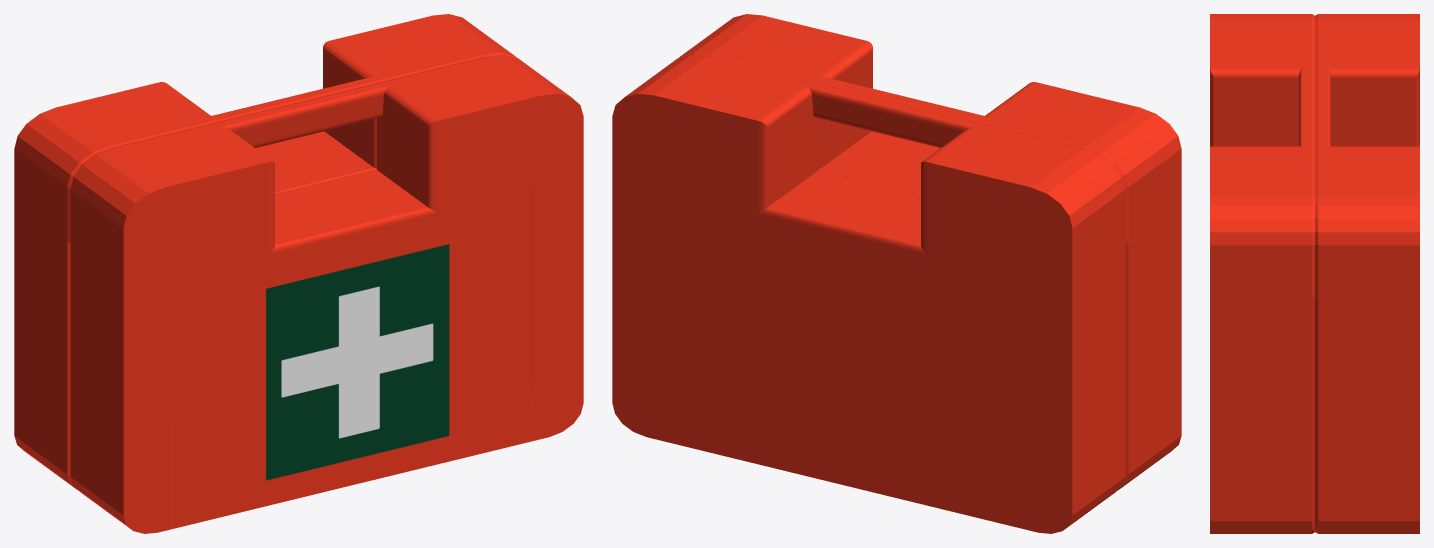
File: firstAid.glb
The picture shows the model from 3 angles, left to right: view 1: azimuth 30°, elevation 25°; view 2: azimuth 150°, elevation 25°; view 3: azimuth 270°, elevation 25°; orthographic projection. The views are drawn at different scales.
Visible parts, largest first — view 1: Cube; view 2: Cube; view 3: Cube.
Part boxes in pixels (x1,y1,x2,y2): Cube: [14, 14, 583, 533]; Cube: [612, 14, 1181, 533]; Cube: [1210, 14, 1419, 533].
Bounding box in the file's own units: 0.28 × 0.1998 × 0.115.
Materials: 2 (1 with a texture image).
